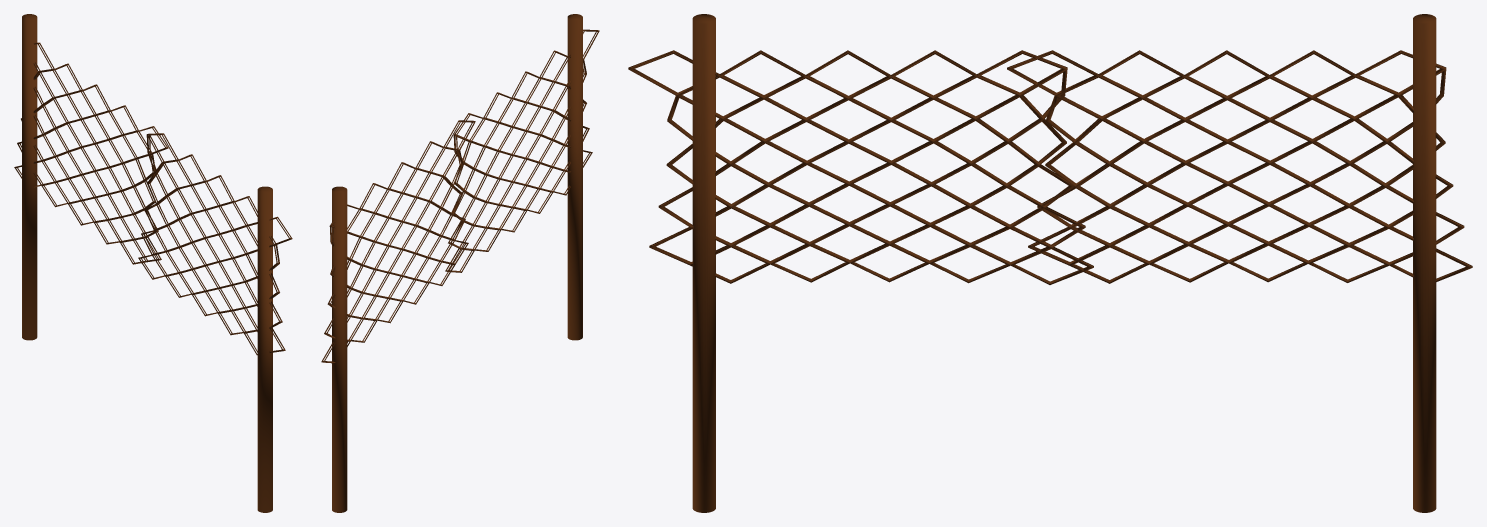
File: NetObstacle.fbx
3 renders of one model, left to right at view 1: azimuth 30°, elevation 25°; view 2: azimuth 150°, elevation 25°; view 3: azimuth 270°, elevation 25°, orthographic. The views are drawn at different scales.
Parts seen in each view (by area): view 1: Net; view 2: Net; view 3: Net.
Boxes of the visible parts, x1=… form: Net: x1=14, y1=14, x2=292, y2=512; Net: x1=321, y1=14, x2=599, y2=512; Net: x1=628, y1=14, x2=1472, y2=512.
Size of the model in its own units: 29.99 by 687 by 1076.
